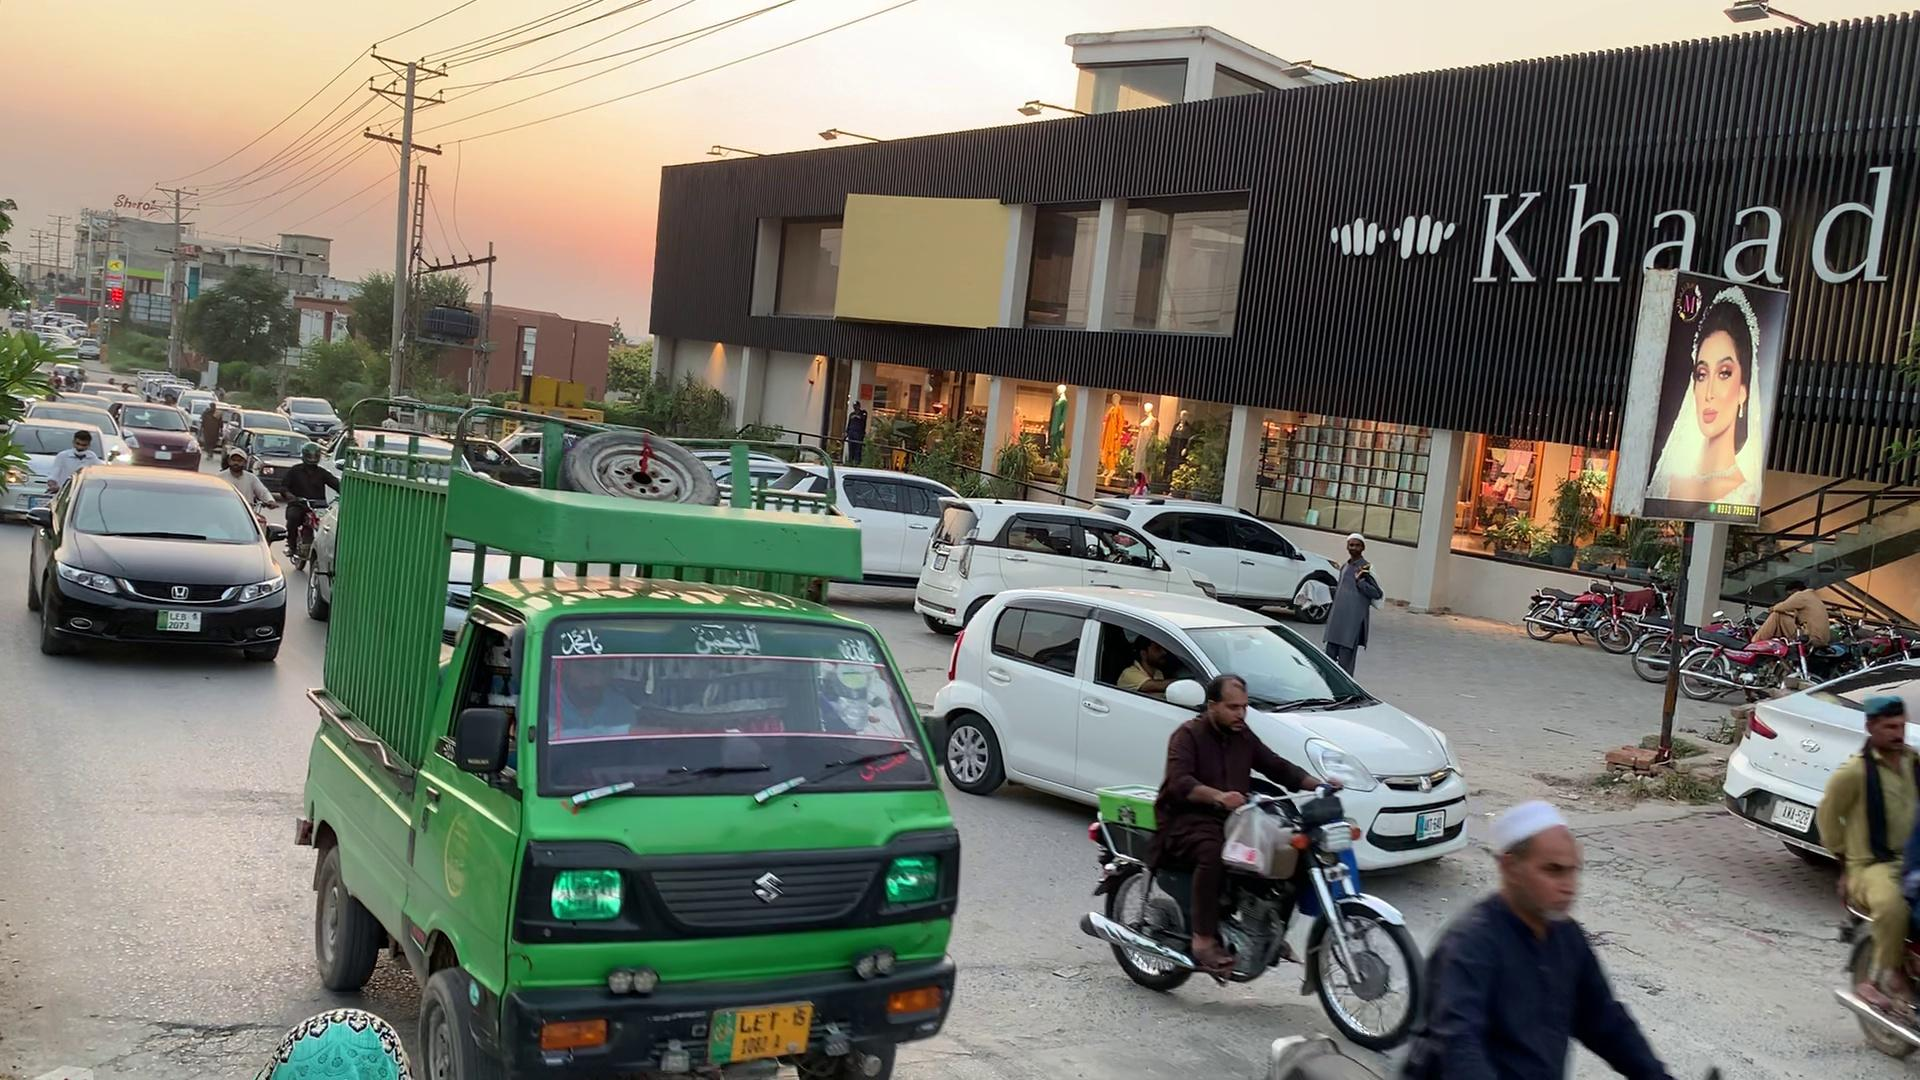windshield: (524, 604, 944, 816)
